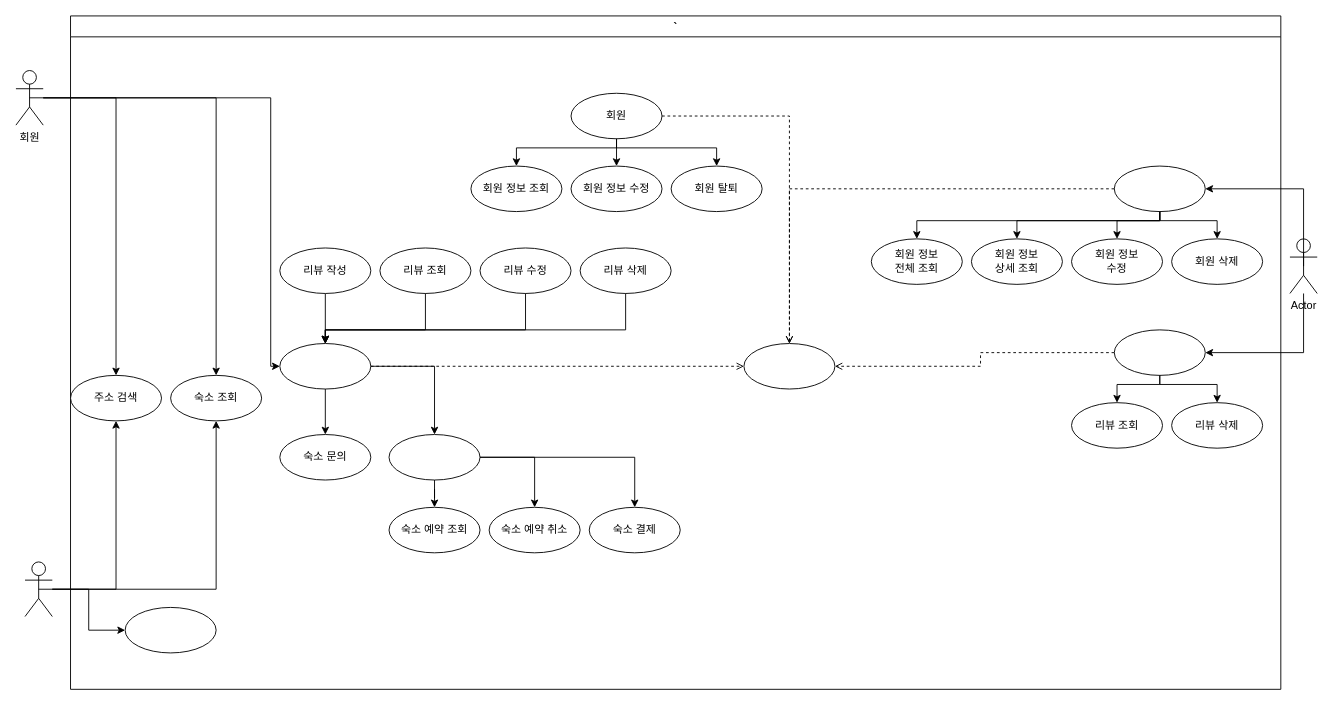
The diagram is 1333 pixels wide and 705 high, and some of its shapes have lost their labels. Each missing label, with the centre of its shape:
"리뷰 관리" goes at (x=1159, y=352).
"비회원" goes at (x=38, y=589).
"사용자 인증" goes at (x=789, y=366).
"숙소" goes at (x=325, y=366).
"숙소 예약" goes at (x=434, y=457).
"회원 관리" goes at (x=1159, y=188).
"회원가입" goes at (x=170, y=630).
